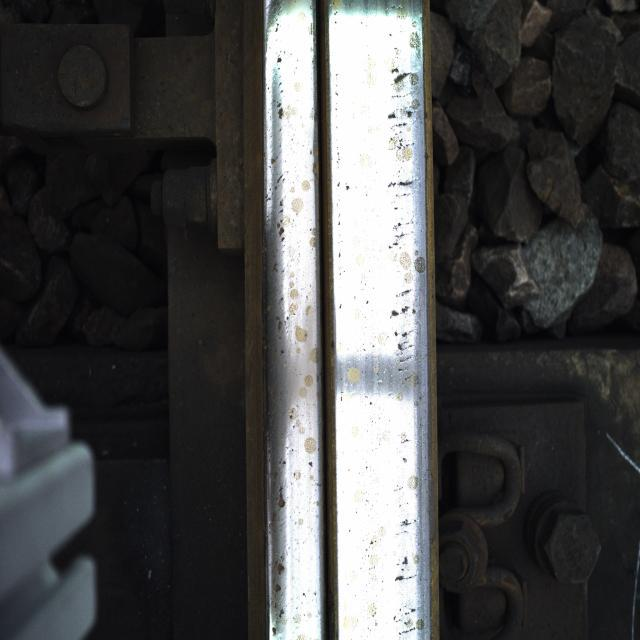scar: (270, 103, 320, 578), (374, 16, 430, 390)
